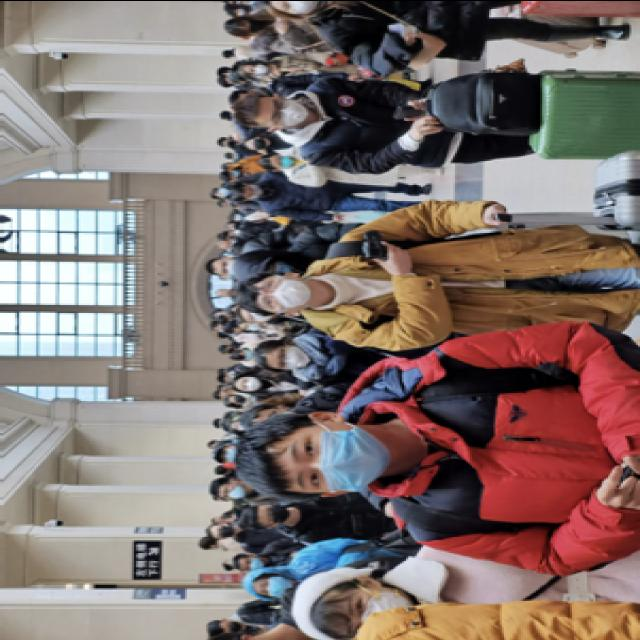with_mask: (285, 420, 389, 494), (338, 584, 416, 638), (255, 274, 311, 314), (264, 98, 304, 128), (270, 344, 308, 371), (253, 572, 291, 598), (259, 502, 287, 526), (272, 2, 314, 16), (236, 554, 264, 572), (216, 482, 242, 499), (235, 16, 258, 35), (240, 309, 270, 323), (238, 376, 260, 394), (270, 155, 292, 171), (244, 62, 266, 78), (215, 258, 234, 276), (212, 523, 232, 539), (242, 184, 260, 200), (221, 619, 238, 634), (217, 447, 234, 462), (244, 138, 264, 150), (236, 351, 251, 362), (212, 188, 228, 198), (228, 394, 240, 404), (226, 170, 236, 180)
without_mask: (217, 288, 230, 298)
